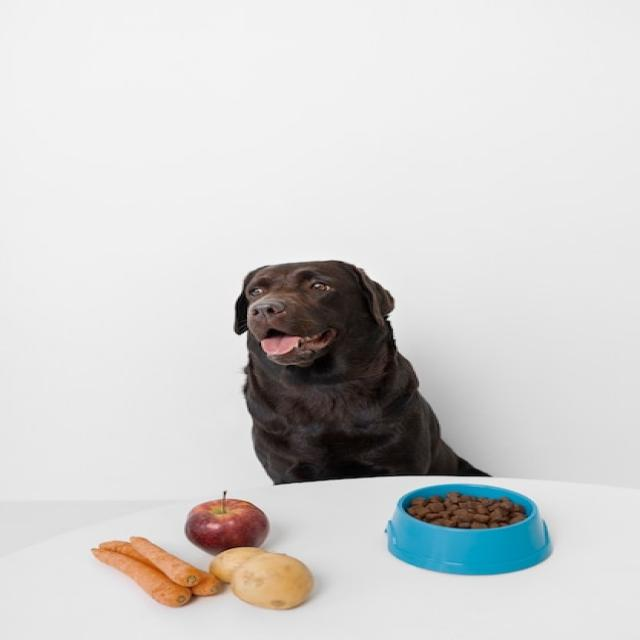Dog: (232, 260, 491, 486)
